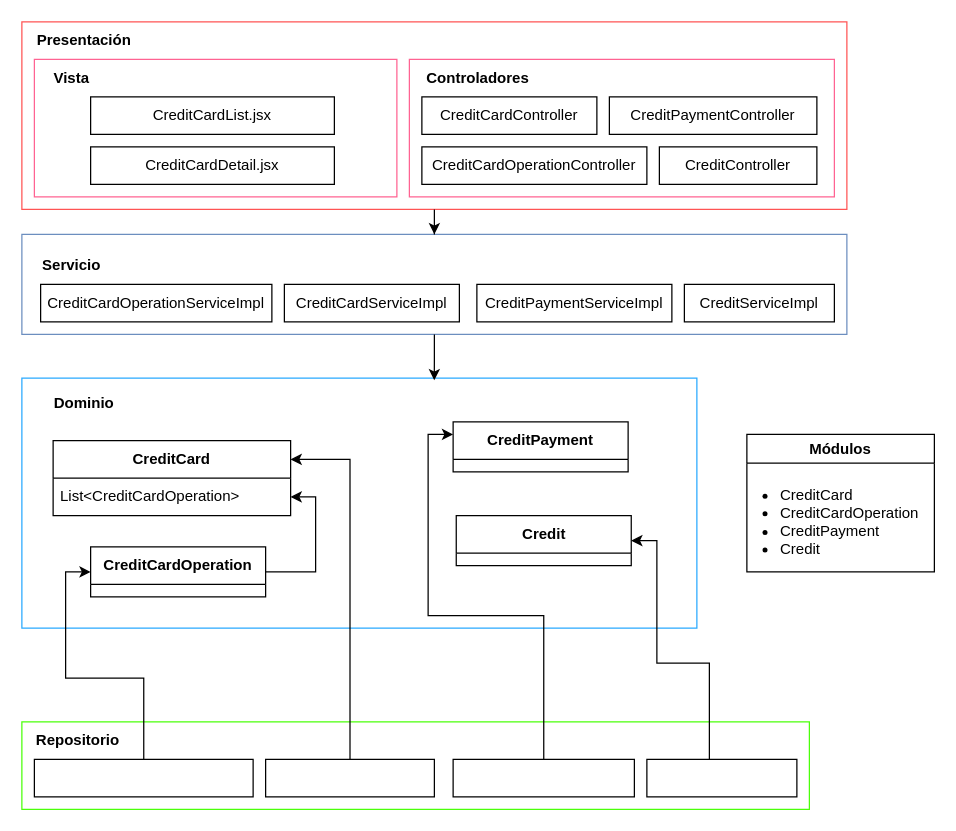
This 956x831 diagram has some shape labels left out. Here are the shapes that lost their labels. From the top down, the centre of each, then its label:
At (x=143, y=777): "CreditCardOperationRepository".
At (x=349, y=777): "CreditCardRepository".
At (x=543, y=777): "CreditPaymentRepository".
At (x=721, y=777): "CreditRepository".
